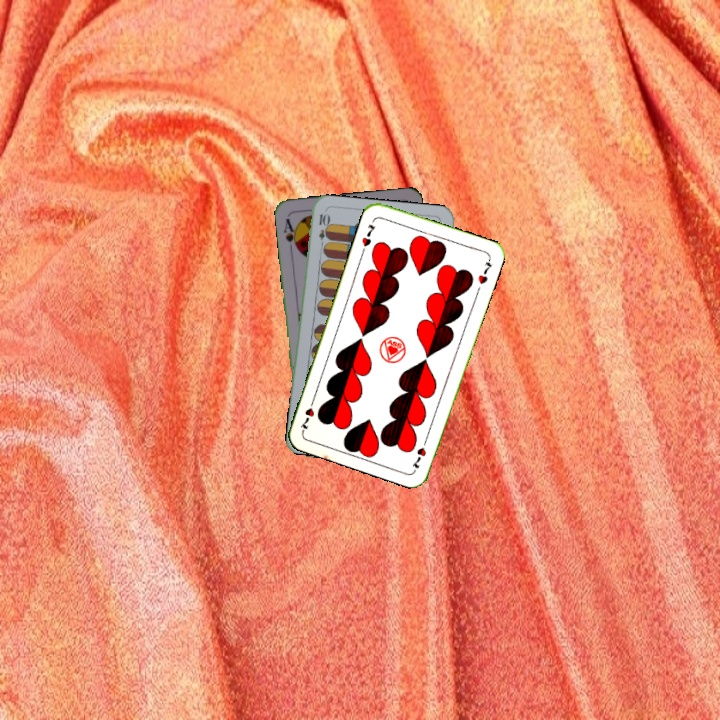E10: (314, 210, 330, 250)
H7: (408, 433, 430, 471), (358, 220, 378, 249)
SA: (280, 214, 301, 254)
